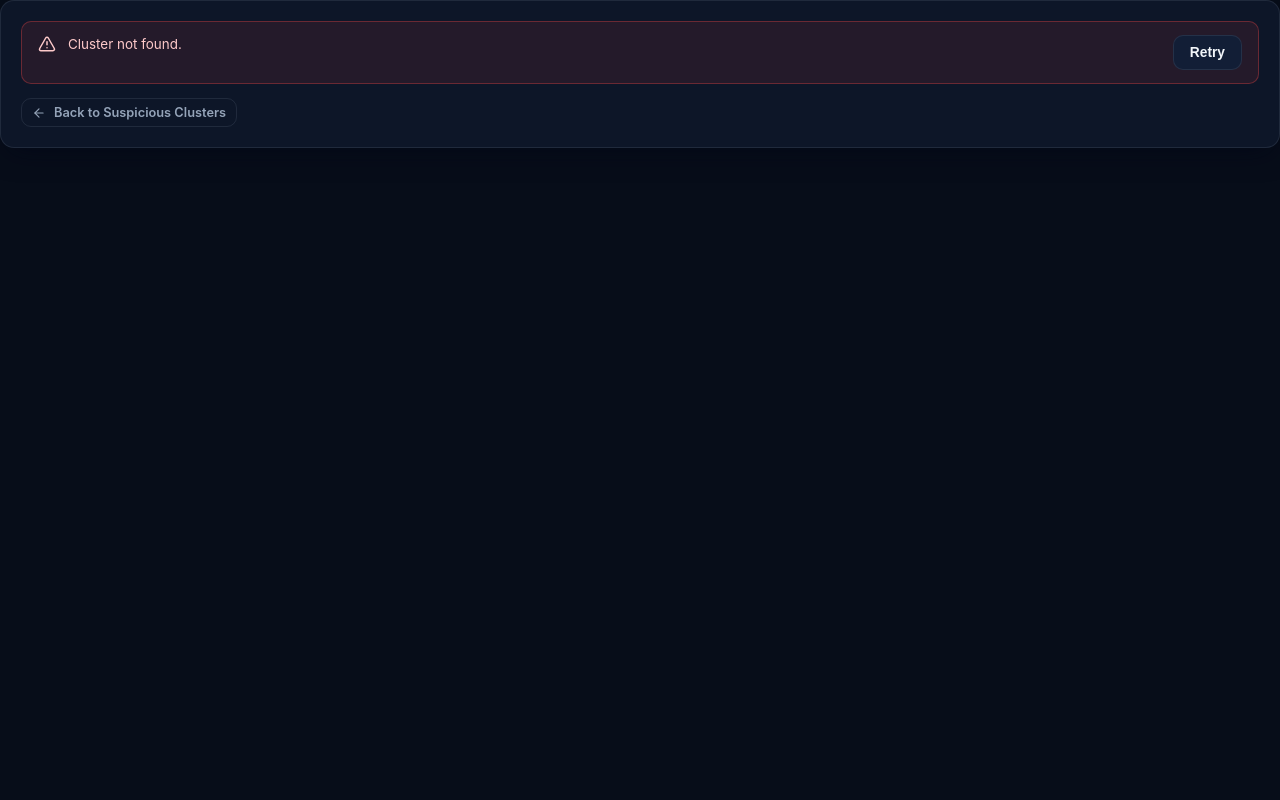
Test: ClusterDetailPage › handles API error and allows retrying
Expected: the text "Cluster not found." is shown, [68,36,182,52]
Click the button "Retry" at (1207, 52), box [1173,35,1242,70]
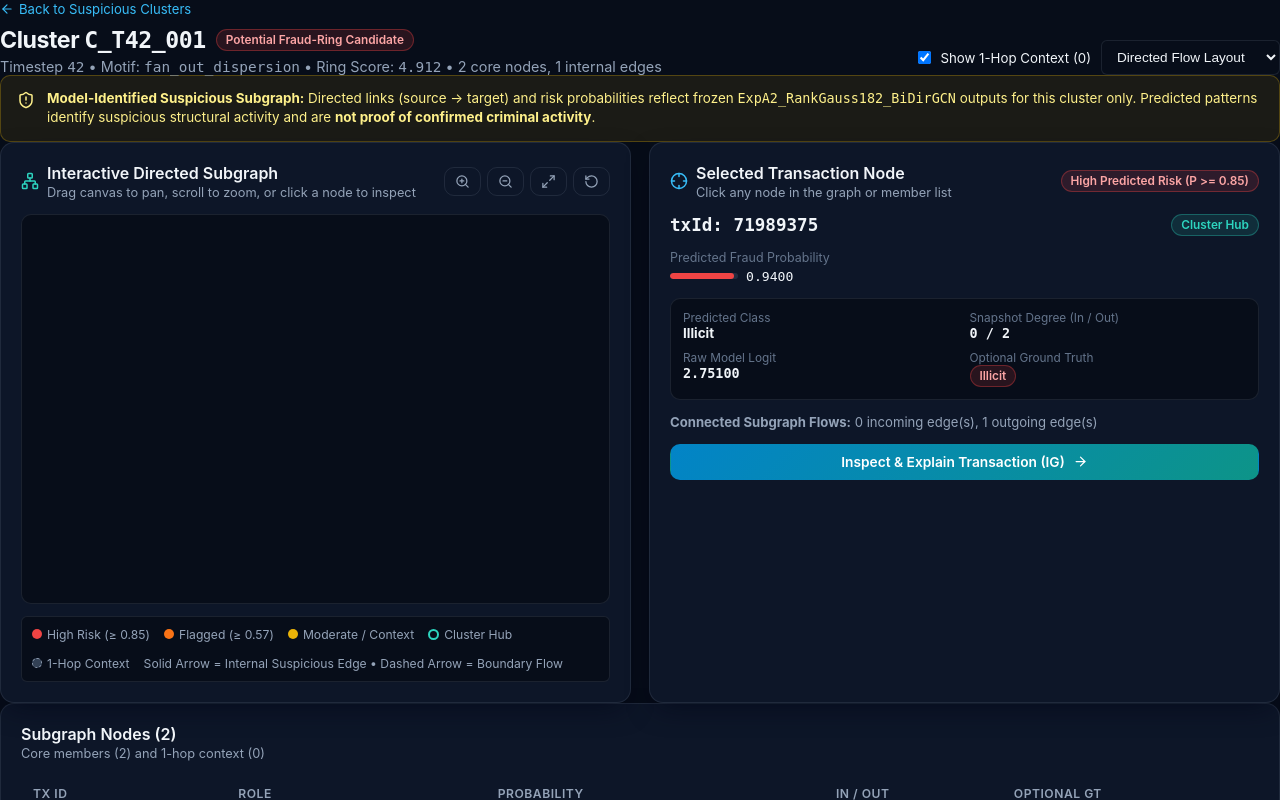
Expected: the text "C_T42_001" is shown, [84,26,206,53]
